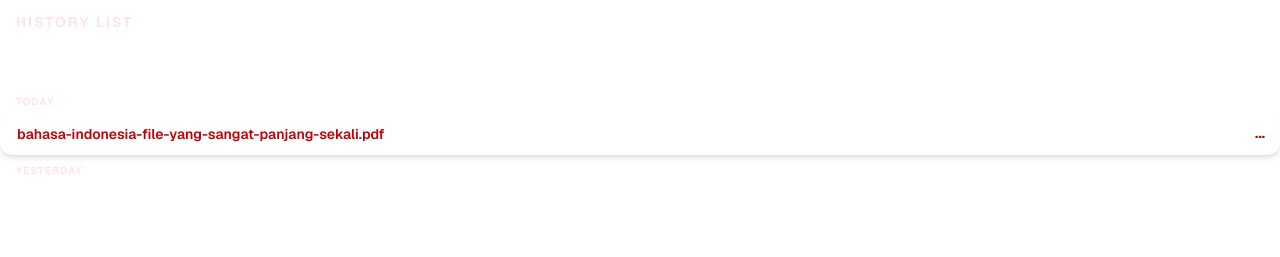
Test case: HistorySidebarList › toggles action menu closed when actions button clicked twice
This screenshot has width=1280, height=257.
Click the 1st button "..." at (1260,133), box [1249,122,1271,144]
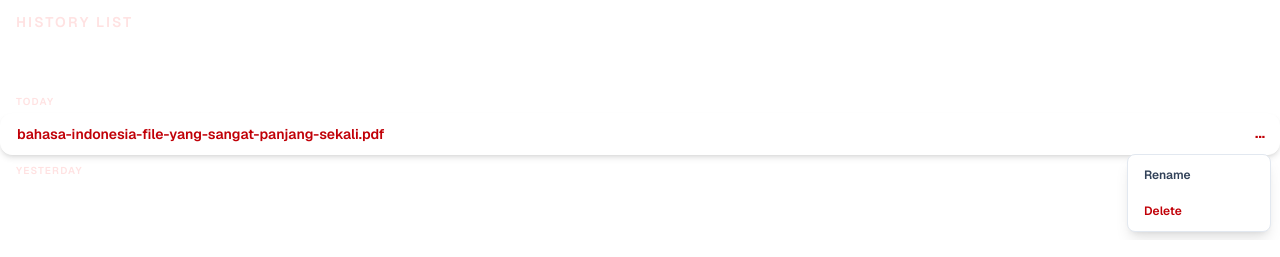
Now the button "Rename" is shown, box [1132,159,1266,191]
Click the button "..." at (1260,133), box [1249,122,1271,144]
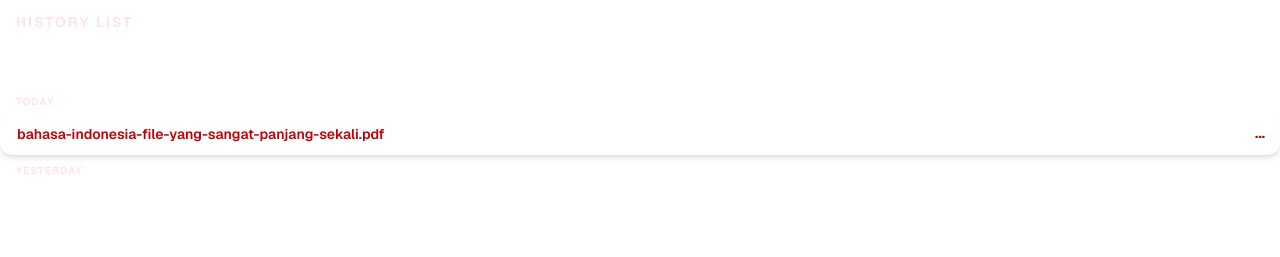
Now the button "Rename" is gone
